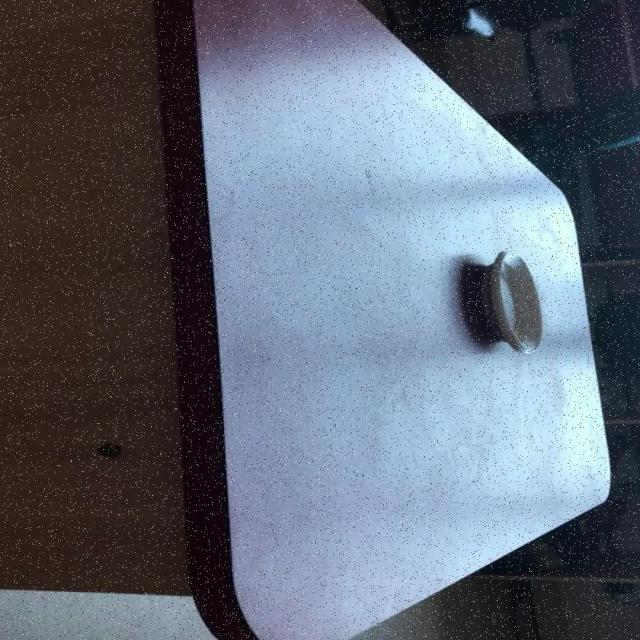Plate: (160, 0, 614, 640), (482, 249, 546, 354)
